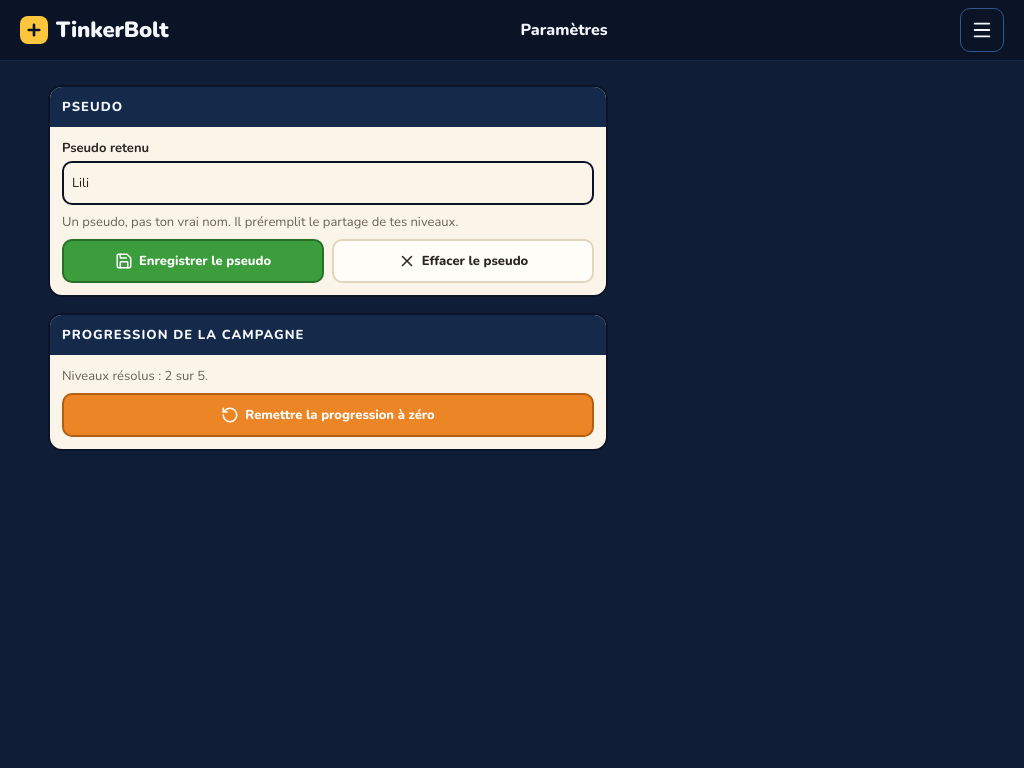
Test: Paramètres — remettre la progression à zéro (U11, ADR 0010, ADR 0011) › demande confirmation, « Annuler » ciblé, et « Annuler » ne change rien
The image size is (1024, 768).
Expected: the text "Niveaux résolus : 2 sur 5." is shown, top-left (62, 367), bottom-right (208, 385)
Click the button "Remettre la progression à zéro" at (328, 415), box top-left (62, 393), bottom-right (594, 437)
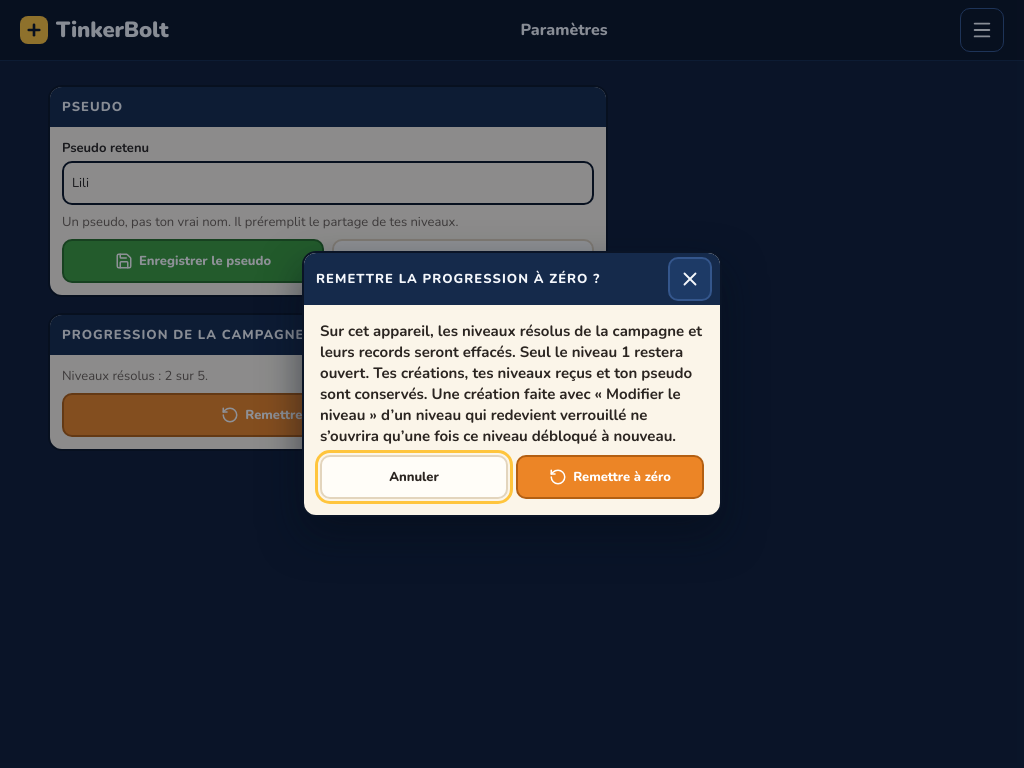
Result: the dialog "Remettre la progression à zéro ?" shows "les niveaux résolus de la campagne et leurs records seront effacés" at top-left (320, 321), bottom-right (702, 446)
Result: the dialog "Remettre la progression à zéro ?" shows "Seul le niveau 1 restera ouvert." at top-left (320, 321), bottom-right (702, 446)
Result: the dialog "Remettre la progression à zéro ?" shows "Tes créations, tes niveaux reçus et ton pseudo sont conservés." at top-left (320, 321), bottom-right (702, 446)
Click the button "Annuler" at (414, 477), box top-left (320, 455), bottom-right (508, 499)
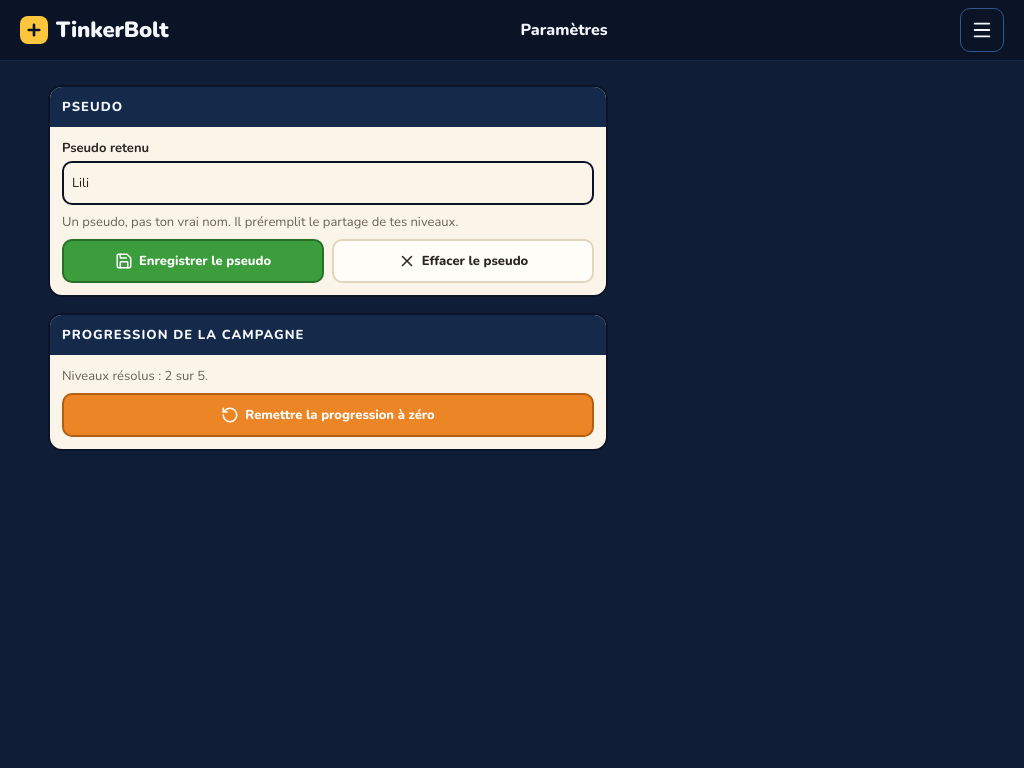
Expected: the text "Niveaux résolus : 2 sur 5." is shown, top-left (62, 367), bottom-right (208, 385)
Result: the dialog is gone
